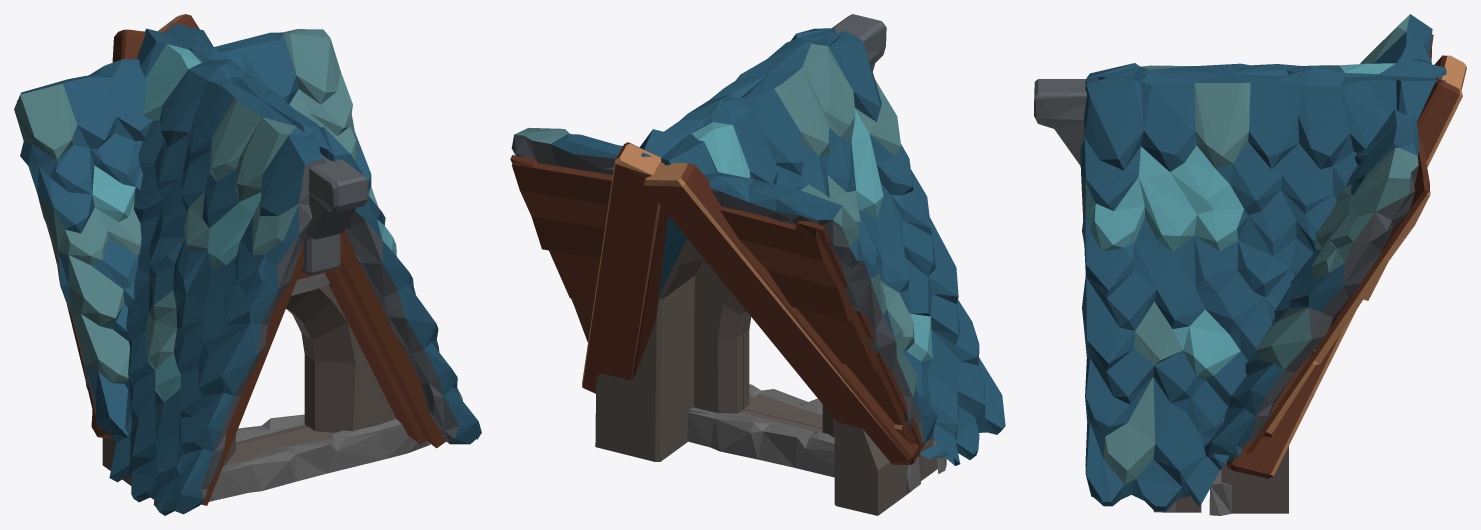
The model's file is MCastle_Roof_Portch_01.FBX.
3 views of the same model, side by side, from view 1: azimuth 30°, elevation 25°; view 2: azimuth 150°, elevation 25°; view 3: azimuth 270°, elevation 25° (orthographic). The views are drawn at different scales.
Visible parts, largest first — view 1: MCastle_Roof_Portch_01_Tiles_LOD0; view 2: MCastle_Roof_Portch_01_Tiles_LOD0; view 3: MCastle_Roof_Portch_01_Tiles_LOD0.
Part boxes in pixels (x1=…): MCastle_Roof_Portch_01_Tiles_LOD0: x1=14, y1=14, x2=481, y2=515; MCastle_Roof_Portch_01_Tiles_LOD0: x1=510, y1=14, x2=1005, y2=515; MCastle_Roof_Portch_01_Tiles_LOD0: x1=1034, y1=14, x2=1466, y2=515.
Size of what is drawn, in the model's own units: 5.12 by 5.34 by 5.51.
